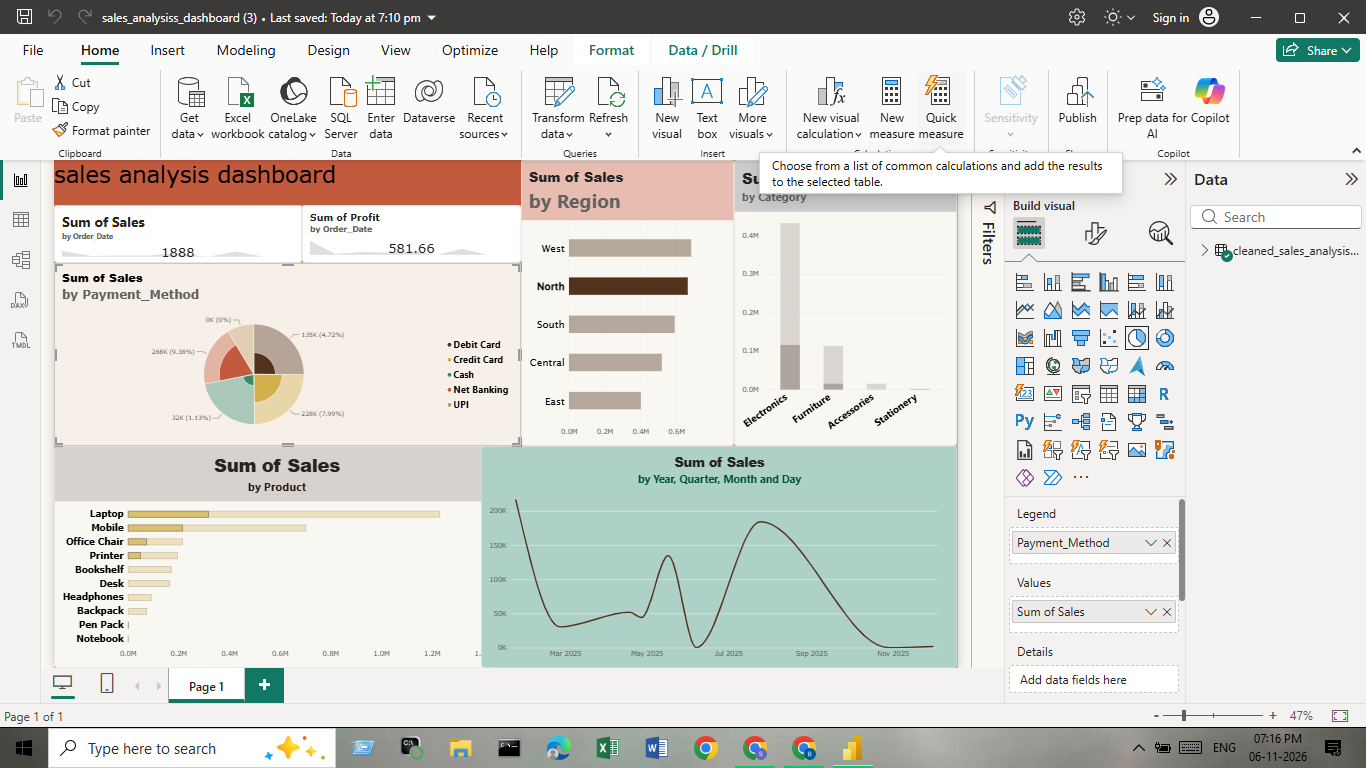

What the dashboard file says about the page in this screenshot:
{"tool":"powerbi","page":{"name":"Page 1","canvas":[1920,1080],"ordinal":0},"visuals":[{"type":"clusteredBarChart","fields":{"Category":["cleaned_sales_analysis_dataset.Product"],"Y":["Sum(cleaned_sales_analysis_dataset.Sales)"]},"box":[0,608,946.1,472],"z":0},{"type":"barChart","fields":{"Category":["cleaned_sales_analysis_dataset.Region"],"Y":["Sum(cleaned_sales_analysis_dataset.Sales)"]},"box":[992.8,0,452.8,608],"z":2000},{"type":"lineChart","fields":{"Category":["cleaned_sales_analysis_dataset.Order_Date.Variation.Date Hierarchy.Year","cleaned_sales_analysis_dataset.Order_Date.Variation.Date Hierarchy.Quarter","cleaned_sales_analysis_dataset.Order_Date.Variation.Date Hierarchy.Month","cleaned_sales_analysis_dataset.Order_Date.Variation.Date Hierarchy.Day"],"Y":["Sum(cleaned_sales_analysis_dataset.Sales)"]},"box":[907.8,608,1012,472],"z":2001},{"type":"clusteredColumnChart","fields":{"Category":["cleaned_sales_analysis_dataset.Category"],"Y":["Sum(cleaned_sales_analysis_dataset.Profit)"]},"box":[1445.7,0,474.1,608],"z":2002},{"type":"pieChart","fields":{"Category":["cleaned_sales_analysis_dataset.Payment_Method"],"Y":["Sum(cleaned_sales_analysis_dataset.Sales)"]},"box":[0,219,992.8,389.1],"z":2003},{"type":"textbox","box":[0,658,173,422],"z":2004},{"type":"textbox","box":[888,463,150,195],"z":2006},{"type":"kpi","fields":{"Indicator":["Sum(cleaned_sales_analysis_dataset.Sales)"],"TrendLine":["cleaned_sales_analysis_dataset.Order_Date"]},"box":[0,95.7,527.2,123.3],"z":2007},{"type":"textbox","box":[795,658,150,422],"z":2008},{"type":"textbox","box":[795,658,150,422],"z":2009},{"type":"textbox","box":[795,658,150,422],"z":2010},{"type":"textbox","box":[795,658,150,422],"z":2011},{"type":"textbox","box":[0,0,992.8,95.7],"z":2012},{"type":"textbox","box":[0,514,527,150],"z":2013},{"type":"kpi","fields":{"Indicator":["Sum(cleaned_sales_analysis_dataset.Profit)"],"TrendLine":["cleaned_sales_analysis_dataset.Order_Date"]},"box":[527.2,95.7,465.6,123.3],"z":2014}]}

Visuals, with their boxes on the page's 1920x1080 design canvas (x1, y1, x2, y2). These are canvas units, not pixel positions in the 1366x768 screenshot, which may show the page scaled, cropped or inside an application window:
clusteredBarChart - cleaned_sales_analysis_dataset.Product x Sum(cleaned_sales_analysis_dataset.Sales): <box>0,608,946,1080</box>
barChart - cleaned_sales_analysis_dataset.Region x Sum(cleaned_sales_analysis_dataset.Sales): <box>993,0,1446,608</box>
lineChart - cleaned_sales_analysis_dataset.Order_Date.Variation.Date Hierarchy.Year x cleaned_sales_analysis_dataset.Order_Date.Variation.Date Hierarchy.Quarter: <box>908,608,1920,1080</box>
clusteredColumnChart - cleaned_sales_analysis_dataset.Category x Sum(cleaned_sales_analysis_dataset.Profit): <box>1446,0,1920,608</box>
pieChart - cleaned_sales_analysis_dataset.Payment_Method x Sum(cleaned_sales_analysis_dataset.Sales): <box>0,219,993,608</box>
textbox: <box>0,658,173,1080</box>
textbox: <box>888,463,1038,658</box>
kpi - Sum(cleaned_sales_analysis_dataset.Sales) x cleaned_sales_analysis_dataset.Order_Date: <box>0,96,527,219</box>
textbox: <box>795,658,945,1080</box>
textbox: <box>795,658,945,1080</box>
textbox: <box>795,658,945,1080</box>
textbox: <box>795,658,945,1080</box>
textbox: <box>0,0,993,96</box>
textbox: <box>0,514,527,664</box>
kpi - Sum(cleaned_sales_analysis_dataset.Profit) x cleaned_sales_analysis_dataset.Order_Date: <box>527,96,993,219</box>
